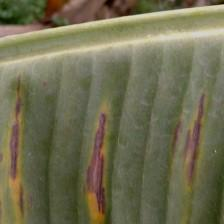sigatoka: (0, 25, 224, 224)
